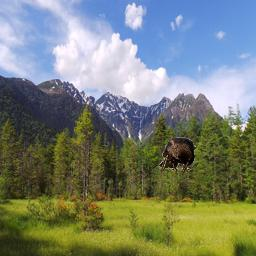Crow: (158, 137, 198, 173)
